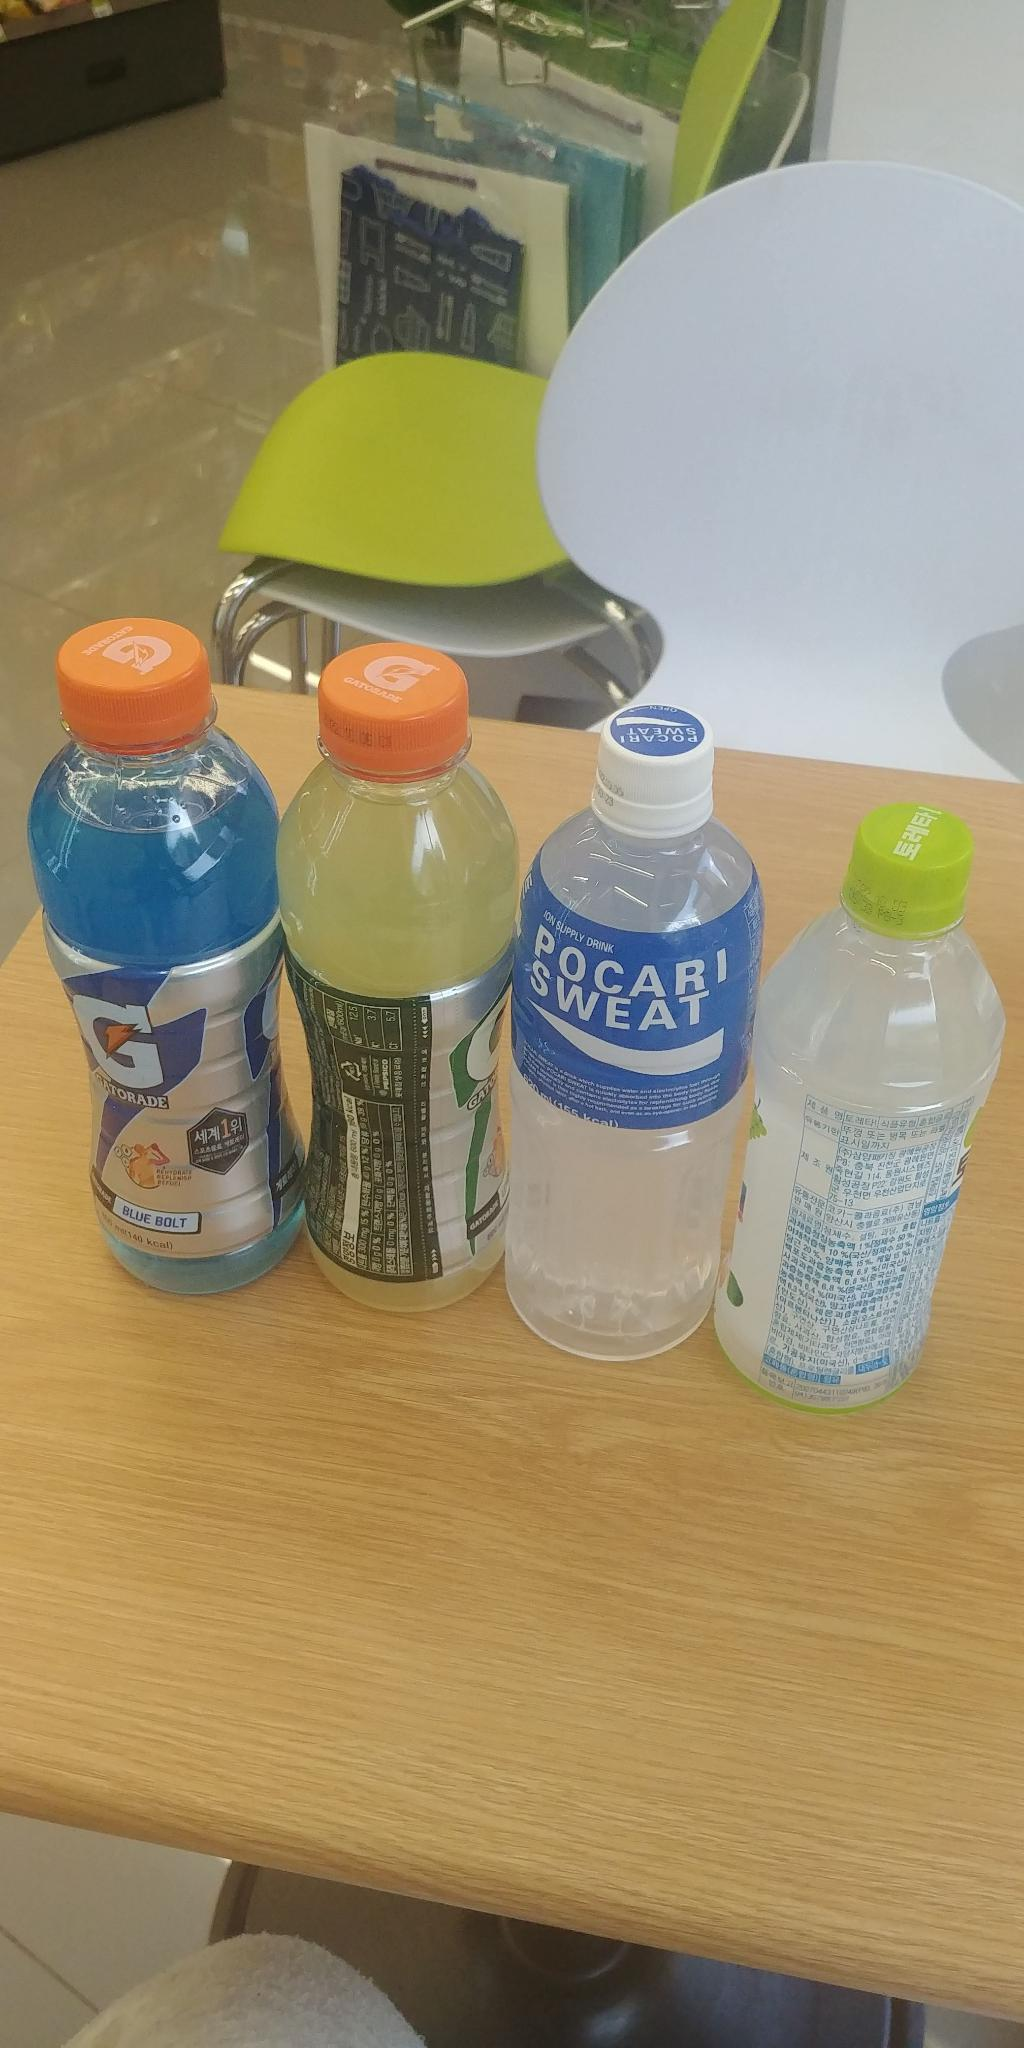gatorade_lemon: (276, 635, 526, 1314)
pocarisweat: (495, 671, 764, 1388)
toreta: (750, 775, 997, 1437)
